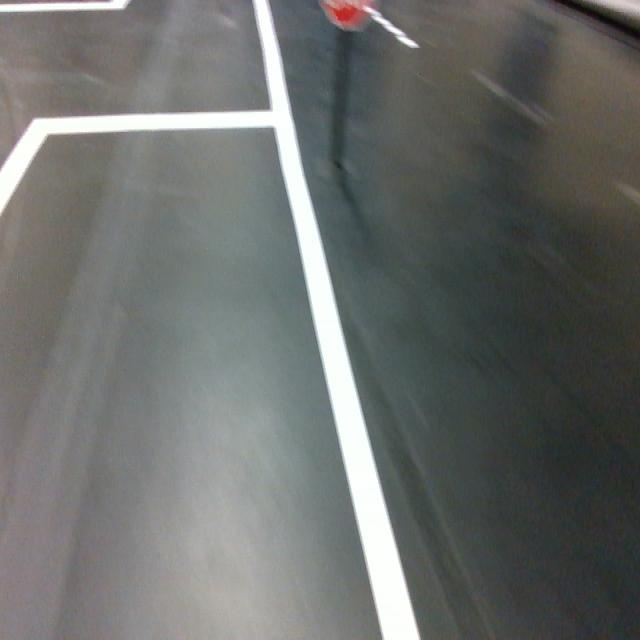stop-sign: (318, 0, 378, 32)
